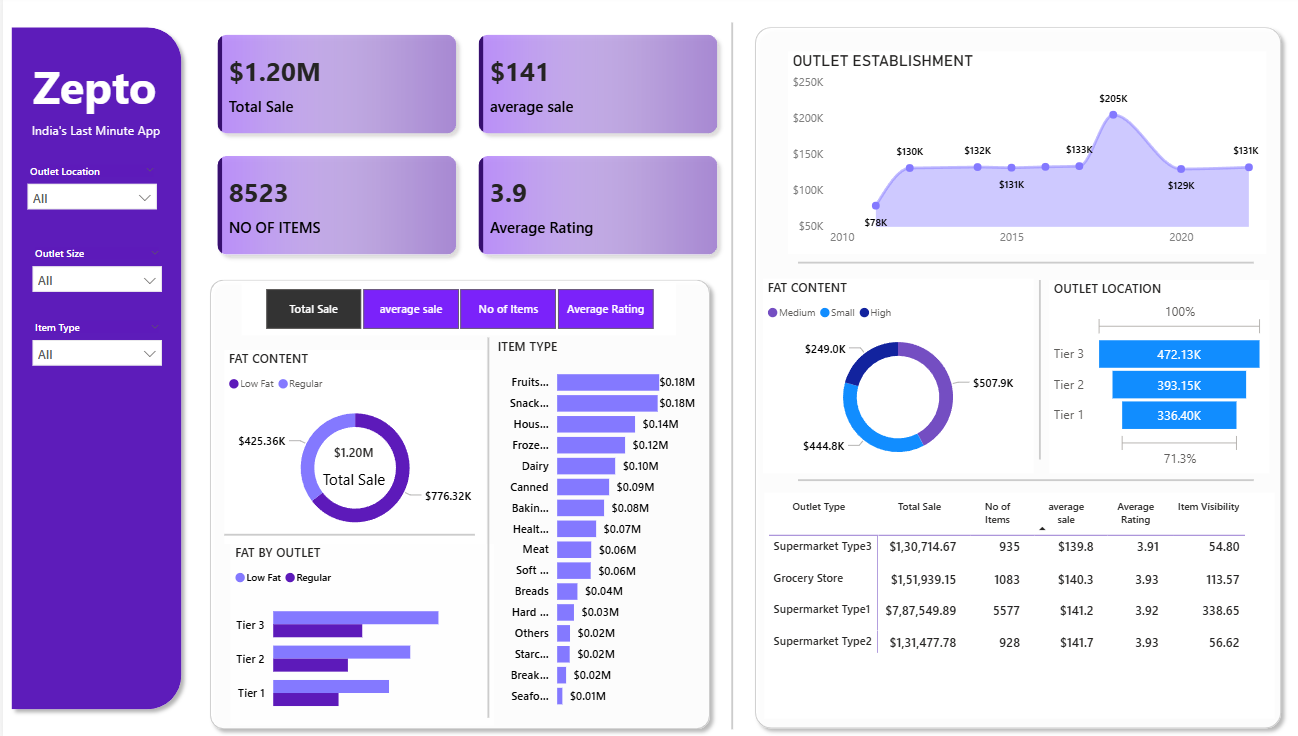

The page's visual inventory and layout, read from the dashboard file:
{"tool":"powerbi","page":{"name":"Page 1","canvas":[1400,800],"ordinal":0},"visuals":[{"type":"shape","box":[798,26,582,770],"z":0},{"type":"shape","box":[0,25.7,200.3,749.6],"z":1000},{"type":"textbox","box":[27,60,153,83],"z":2000},{"type":"textbox","box":[16,131.3,167.3,82],"z":3000},{"type":"cardVisual","fields":{"Data":["BlinkIT Grocery Data.Total Sale","BlinkIT Grocery Data.average sale","BlinkIT Grocery Data.No of Items","BlinkIT Grocery Data.Average Rating"]},"box":[212.9,25.7,570,270],"z":4000},{"type":"shape","box":[213,296,554,500],"z":5000},{"type":"donutChart","title":"FAT CONTENT","fields":{"Y":["BlinkIT Grocery Data.Total Sale"],"Category":["BlinkIT Grocery Data.Item Fat Content"]},"box":[236.7,381.1,281.1,207.8],"z":6000},{"type":"slicer","fields":{"Values":["Metrics.Metrics"]},"box":[256.7,308.9,465.6,56.7],"z":7000},{"type":"card","fields":{"Values":["BlinkIT Grocery Data.Total Sale"]},"box":[305,473.3,141.7,61.7],"z":8000},{"type":"clusteredBarChart","title":"FAT BY OUTLET","fields":{"Y":["BlinkIT Grocery Data.Total Sale"],"Category":["BlinkIT Grocery Data.Outlet Location Type"],"Series":["BlinkIT Grocery Data.Item Fat Content"]},"box":[244,589,282,195],"z":9000},{"type":"shape","box":[236.7,548.9,268.9,61.1],"z":10000},{"type":"shape","box":[385.6,367.8,268.9,407.8],"z":11000},{"type":"barChart","title":"ITEM TYPE","fields":{"Y":["BlinkIT Grocery Data.Total Sale"],"Category":["BlinkIT Grocery Data.Item Type"]},"box":[525.6,367.8,222.2,407.8],"z":12000},{"type":"lineChart","title":"OUTLET ESTABLISHMENT","fields":{"Y":["BlinkIT Grocery Data.Total Sale"],"Category":["BlinkIT Grocery Data.Outlet Establishment Year"]},"box":[841.2,60,512.5,217.5],"z":13000},{"type":"shape","box":[748,30,68,758],"z":14000},{"type":"donutChart","title":"FAT CONTENT","fields":{"Y":["BlinkIT Grocery Data.Total Sale"],"Category":["BlinkIT Grocery Data.Outlet Size"]},"box":[815.3,304.6,290,208.9],"z":15000},{"type":"shape","box":[852.5,261.2,488.8,51.2],"z":16000},{"type":"shape","box":[1093.8,306.2,36.2,192.5],"z":17000},{"type":"funnel","title":"OUTLET LOCATION","fields":{"Category":["BlinkIT Grocery Data.Outlet Location Type"],"Y":["Sum(BlinkIT Grocery Data.Sales)"]},"box":[1121.4,305.7,235.7,207.1],"z":18000},{"type":"shape","box":[852.5,495,488.8,51.2],"z":19000},{"type":"pivotTable","fields":{"Rows":["BlinkIT Grocery Data.Outlet Type"],"Values":["BlinkIT Grocery Data.Total Sale","BlinkIT Grocery Data.No of Items","BlinkIT Grocery Data.average sale","BlinkIT Grocery Data.Average Rating","Sum(BlinkIT Grocery Data.Item Visibility)"]},"box":[816.7,533.3,547.5,242.5],"z":20000},{"type":"slicer","fields":{"Values":["BlinkIT Grocery Data.Outlet Location Type"]},"box":[16.2,177.5,158.8,72.5],"z":21000},{"type":"slicer","fields":{"Values":["BlinkIT Grocery Data.Outlet Size"]},"box":[21.2,265,158.8,72.5],"z":22000},{"type":"slicer","fields":{"Values":["BlinkIT Grocery Data.Item Type"]},"box":[21.2,345,158.8,72.5],"z":23000}]}

Visuals, with their boxes in screenshot pixels (x1, y1, x2, y2), scaled from the page's 1400x800 canvas onto the 1298x736 screenshot:
shape: box(740, 24, 1279, 732)
shape: box(0, 24, 186, 713)
textbox: box(25, 55, 167, 132)
textbox: box(15, 121, 170, 196)
cardVisual - BlinkIT Grocery Data.Total Sale x BlinkIT Grocery Data.average sale: box(197, 24, 726, 272)
shape: box(197, 272, 711, 732)
"FAT CONTENT" donutChart: box(219, 351, 480, 542)
slicer - Metrics.Metrics: box(238, 284, 670, 336)
card - BlinkIT Grocery Data.Total Sale: box(283, 435, 414, 492)
"FAT BY OUTLET" clusteredBarChart: box(226, 542, 488, 721)
shape: box(219, 505, 469, 561)
shape: box(358, 338, 607, 714)
"ITEM TYPE" barChart: box(487, 338, 693, 714)
"OUTLET ESTABLISHMENT" lineChart: box(780, 55, 1255, 255)
shape: box(694, 28, 757, 725)
"FAT CONTENT" donutChart: box(756, 280, 1025, 472)
shape: box(790, 240, 1244, 287)
shape: box(1014, 282, 1048, 459)
"OUTLET LOCATION" funnel: box(1040, 281, 1258, 472)
shape: box(790, 455, 1244, 503)
pivotTable - BlinkIT Grocery Data.Outlet Type x BlinkIT Grocery Data.Total Sale: box(757, 491, 1265, 714)
slicer - BlinkIT Grocery Data.Outlet Location Type: box(15, 163, 162, 230)
slicer - BlinkIT Grocery Data.Outlet Size: box(20, 244, 167, 310)
slicer - BlinkIT Grocery Data.Item Type: box(20, 317, 167, 384)
